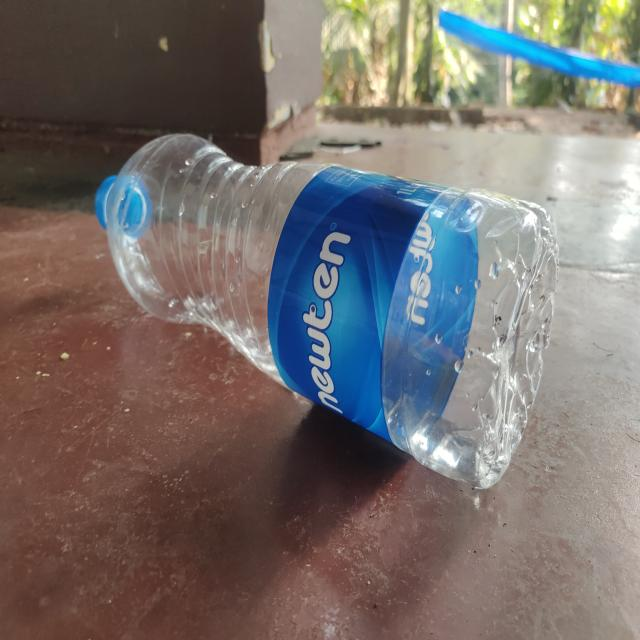plastic: (91, 130, 562, 494)
